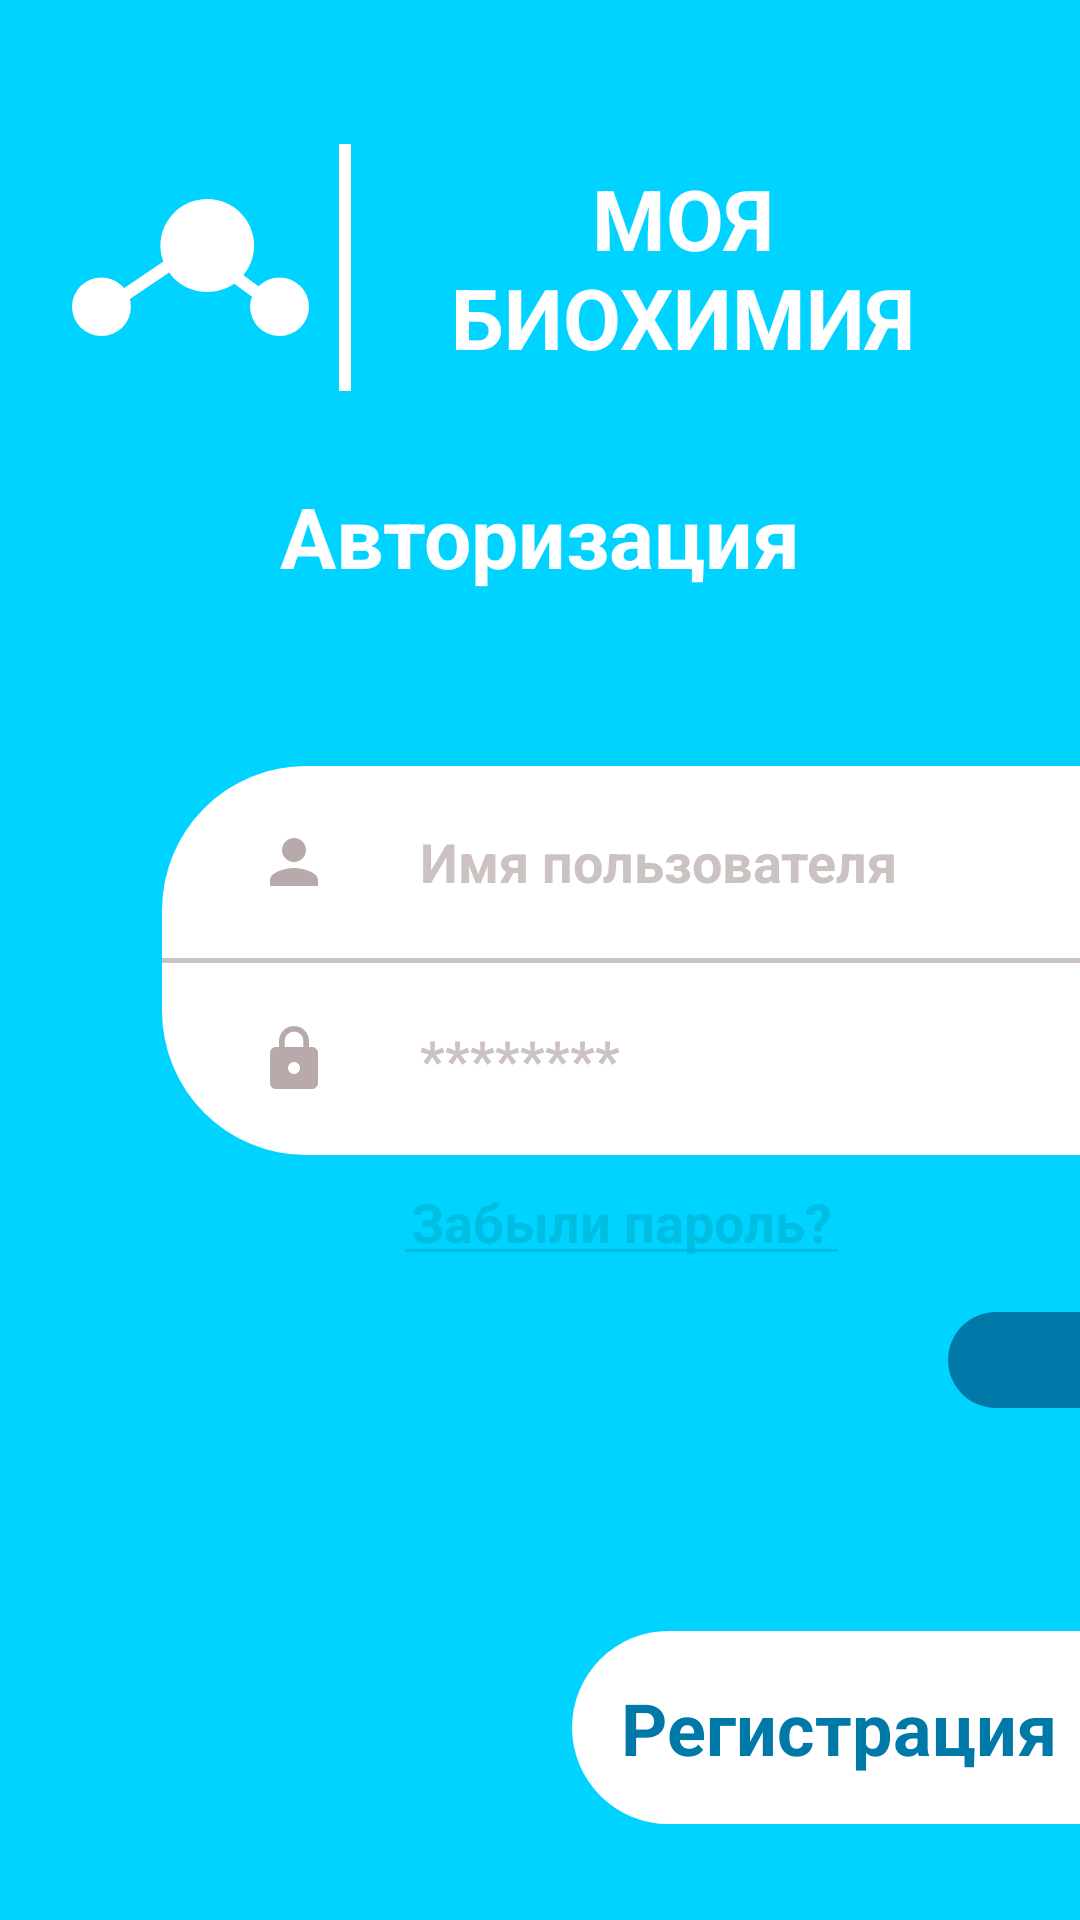

Icons on this 1080px×1920px Android screen, each with the point to tap as (x=x, y=y):
lock: (x=294, y=1057)
person: (x=294, y=862)
